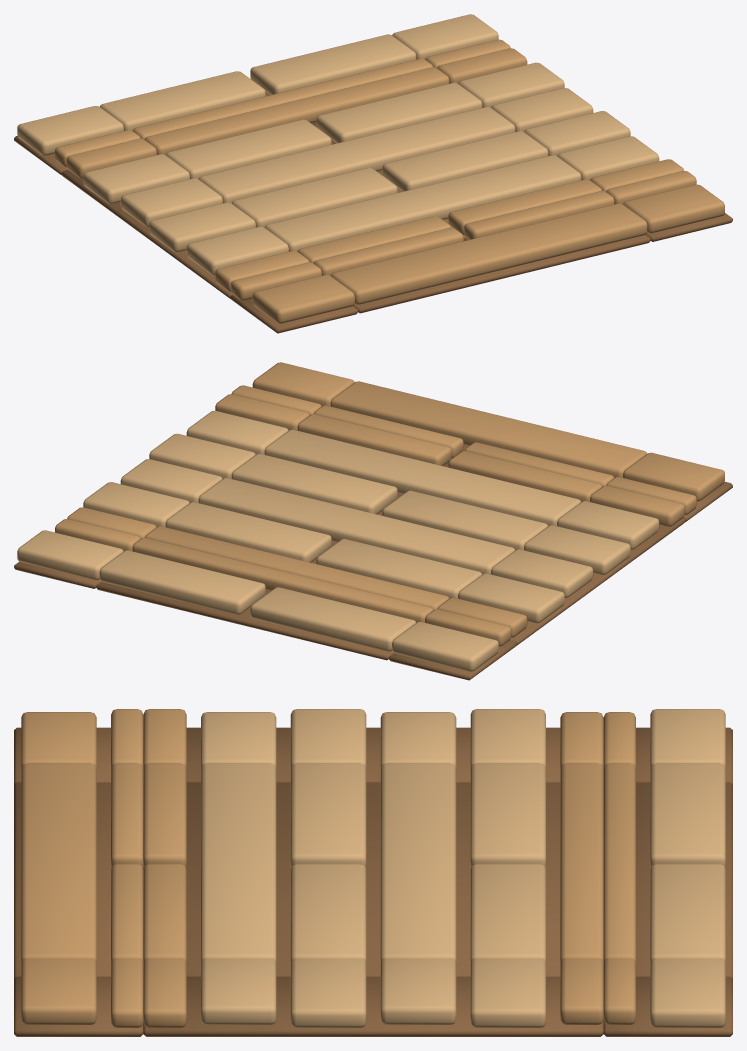
File: path-plank.glb
3 renders of one model, top to bottom at view 1: azimuth 30°, elevation 25°; view 2: azimuth 150°, elevation 25°; view 3: azimuth 270°, elevation 25°, orthographic. The views are drawn at different scales.
Visible parts, largest first — view 1: core, link_s, link_w, link_e, link_n, link_sw, link_se, link_nw, link_ne; view 2: core, link_n, link_w, link_e, link_s, link_nw, link_ne, link_sw, link_se; view 3: core, link_e, link_n, link_s, link_w, link_ne, link_se, link_nw, link_sw.
Boxes of the visible parts, bbox=[...] form: core: bbox=[144, 67, 601, 262]; link_s: bbox=[313, 191, 650, 313]; link_w: bbox=[61, 138, 309, 298]; link_e: bbox=[437, 48, 684, 191]; link_n: bbox=[100, 34, 432, 139]; link_sw: bbox=[230, 262, 357, 333]; link_se: bbox=[606, 171, 732, 241]; link_nw: bbox=[14, 106, 140, 174]; link_ne: bbox=[392, 14, 510, 67]; core: bbox=[145, 414, 602, 609]; link_n: bbox=[96, 538, 433, 660]; link_w: bbox=[437, 485, 685, 645]; link_e: bbox=[67, 394, 309, 538]; link_s: bbox=[314, 381, 646, 486]; link_nw: bbox=[389, 609, 516, 680]; link_ne: bbox=[14, 519, 140, 588]; link_sw: bbox=[606, 452, 732, 521]; link_se: bbox=[231, 362, 354, 414]; core: bbox=[143, 763, 603, 976]; link_e: bbox=[143, 958, 603, 1036]; link_n: bbox=[603, 763, 732, 978]; link_s: bbox=[14, 763, 143, 978]; link_w: bbox=[143, 709, 603, 782]; link_ne: bbox=[603, 958, 732, 1036]; link_se: bbox=[14, 958, 143, 1036]; link_nw: bbox=[603, 709, 732, 784]; link_sw: bbox=[14, 709, 143, 784].
Bounding box in the file's own units: 1 × 0.042 × 1.
